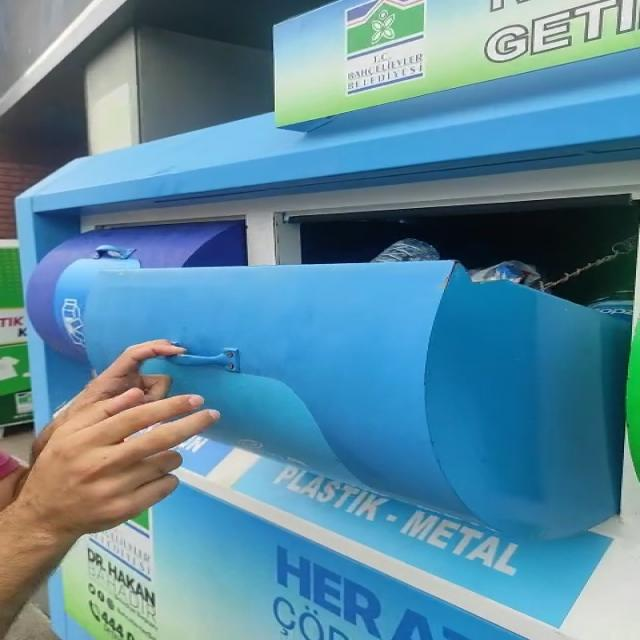plastic: (371, 238, 440, 263)
